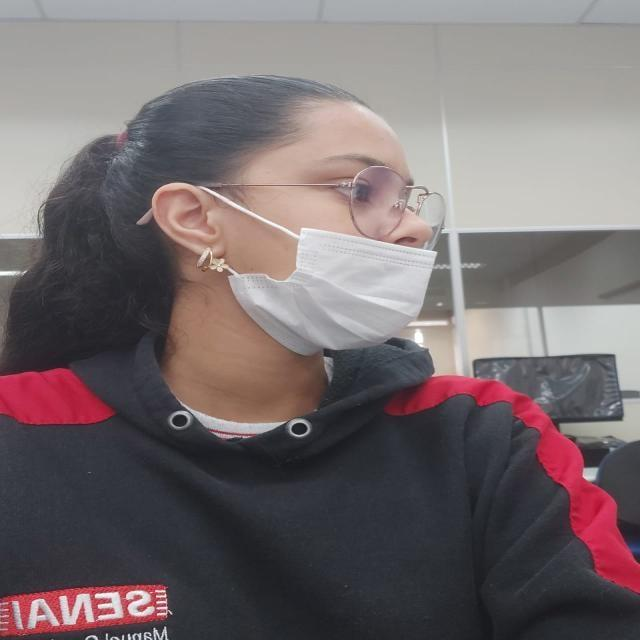hairnet: (276, 95, 440, 349)
